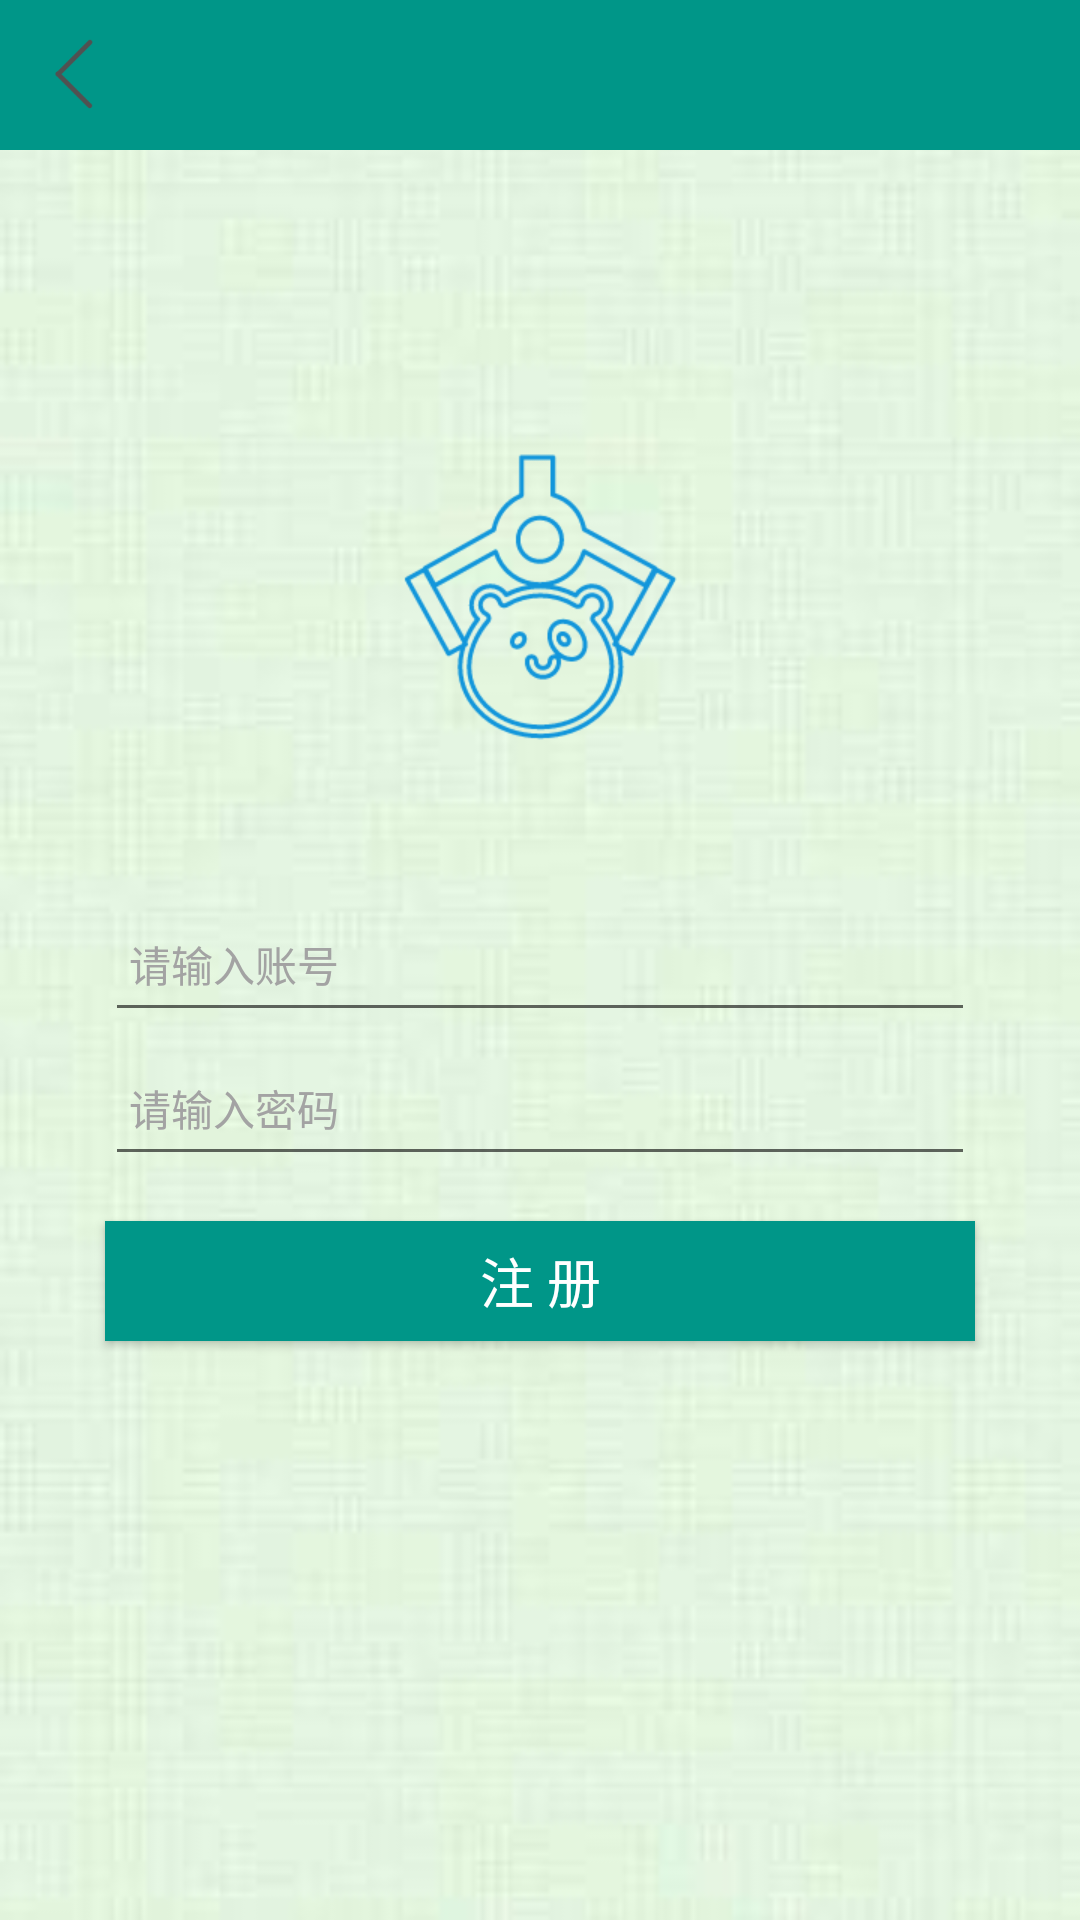

Point at icon controls on the screen. Image size 1080×1920, points as (x=x, y=y).
fanhui: (x=74, y=74)
wawaji: (x=540, y=597)
